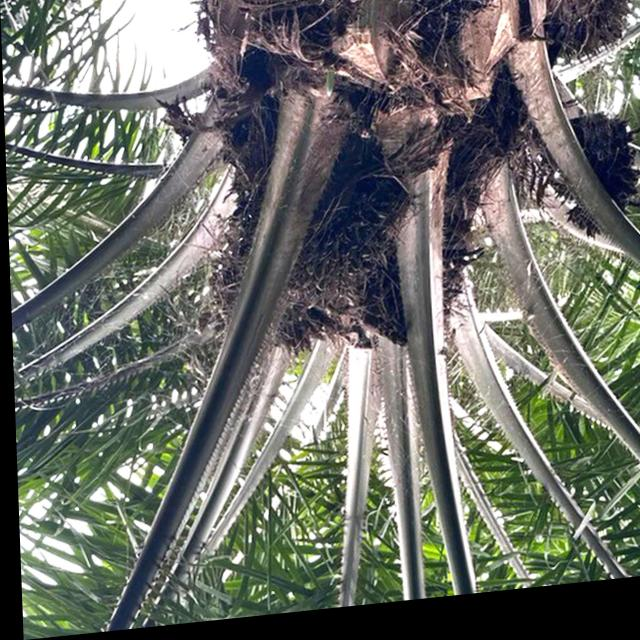unripe: (219, 140, 412, 311)
